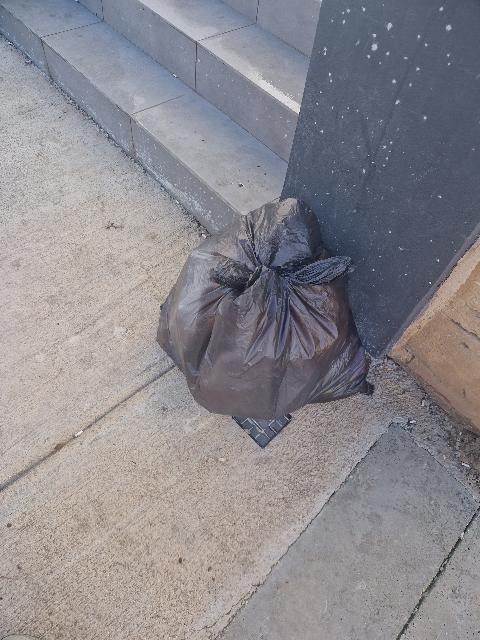Mixed -Black-: (157, 199, 371, 444)
